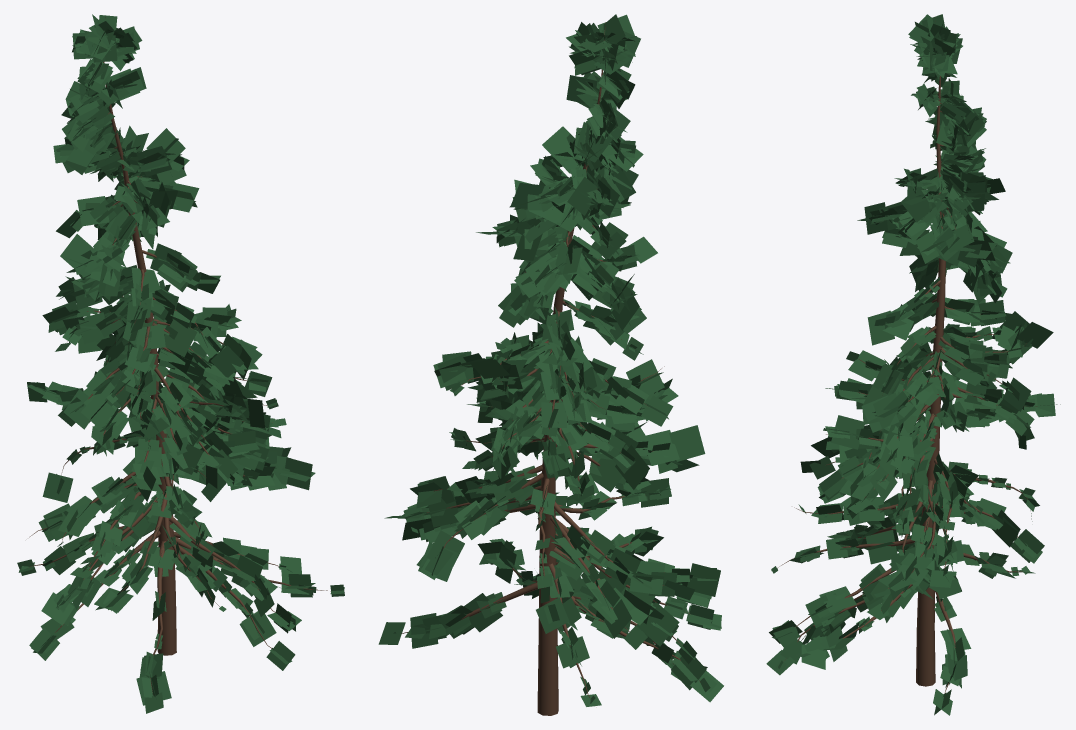
The model's file is meadow-pine-b.glb.
3 renders of one model, left to right at view 1: azimuth 30°, elevation 25°; view 2: azimuth 150°, elevation 25°; view 3: azimuth 270°, elevation 25°, orthographic. The views are drawn at different scales.
Visible parts, largest first — view 1: leaves, bark; view 2: leaves, bark; view 3: leaves, bark.
Part boxes in pixels (<box>): leaves: <box>17,14,344,713</box>; bark: <box>29,17,330,694</box>; leaves: <box>378,14,723,706</box>; bark: <box>401,22,700,715</box>; leaves: <box>766,14,1060,715</box>; bark: <box>778,21,1037,693</box>.
Bounding box in the file's own units: 18.63 × 39.4 × 16.53.
